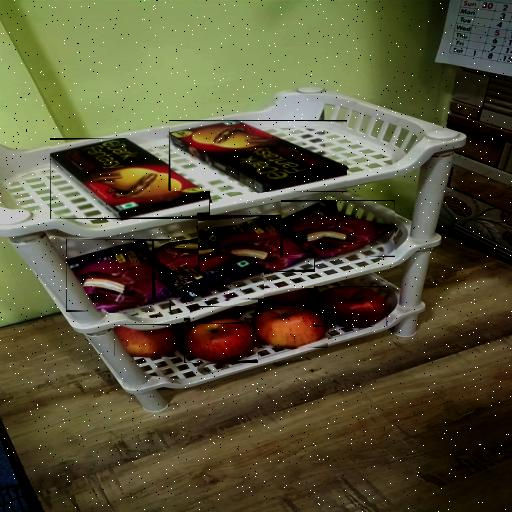Apple: (184, 319, 257, 362), (314, 287, 387, 326), (255, 308, 327, 347), (114, 325, 183, 356), (259, 289, 319, 309), (190, 306, 244, 324)
Choco Fills: (50, 138, 210, 218), (169, 121, 347, 191)
Choco Pie: (67, 241, 170, 311), (153, 241, 264, 299), (198, 216, 314, 271), (281, 201, 395, 256)
